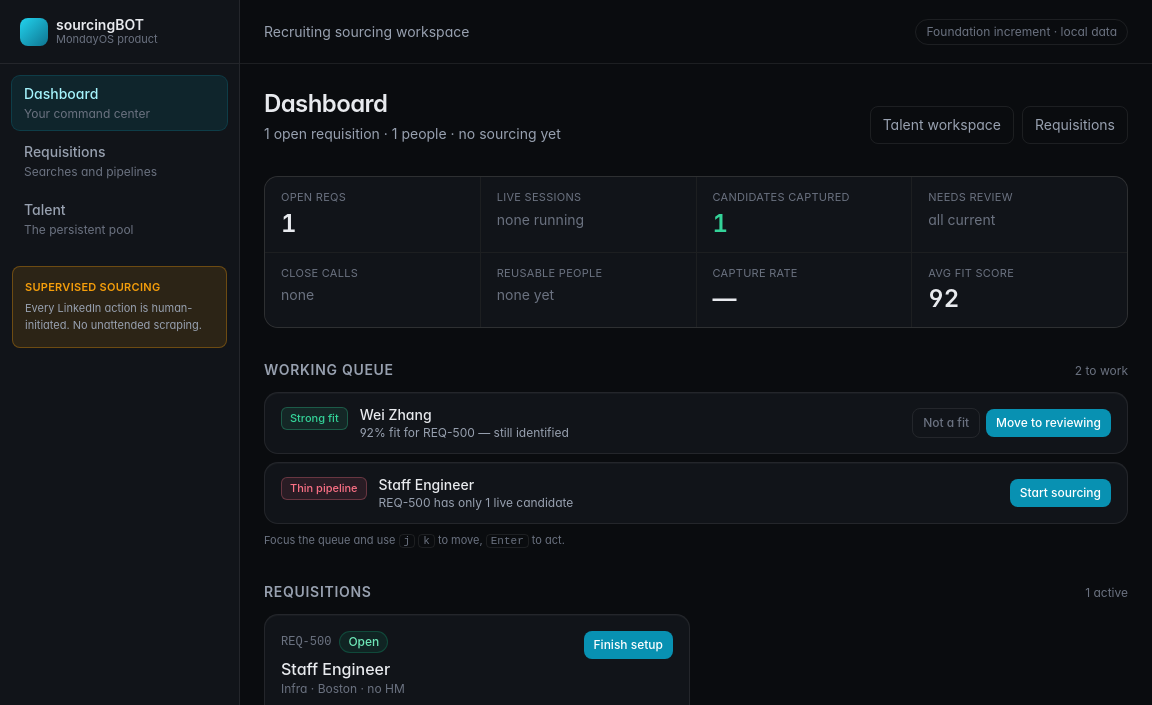
Test case: the homepage is an operating surface, not a report › works a strong candidate in place — the record changes and the item leaves
What coordinates should you click on to do the following:
click the button "Move to reviewing"
I would click on:
 (1049, 423)
Its box is [986,409,1111,437].
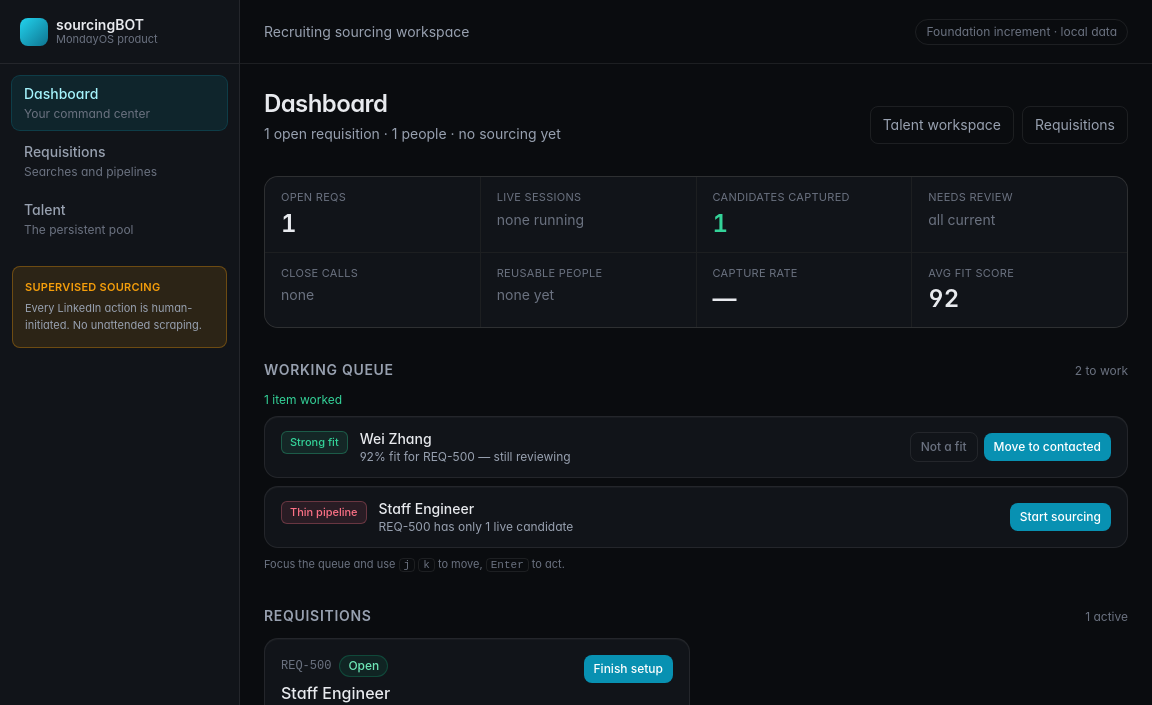
Expected: the text "1 item worked" is shown, [264,392,342,408]
